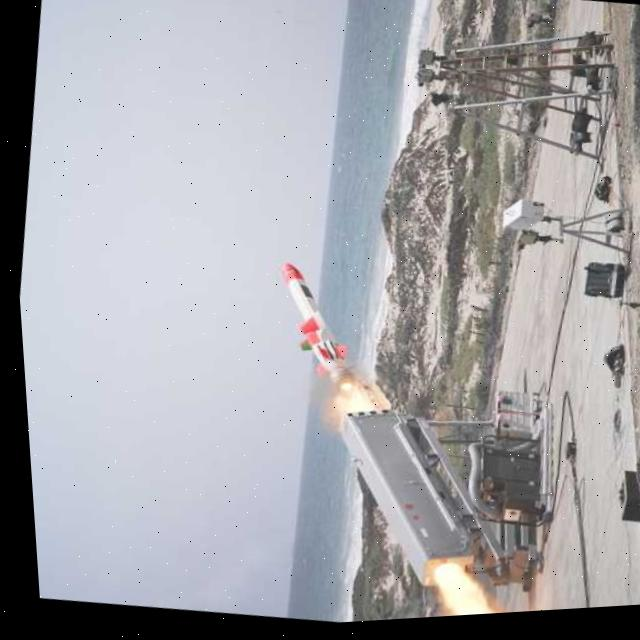missile: (261, 255, 376, 401)
